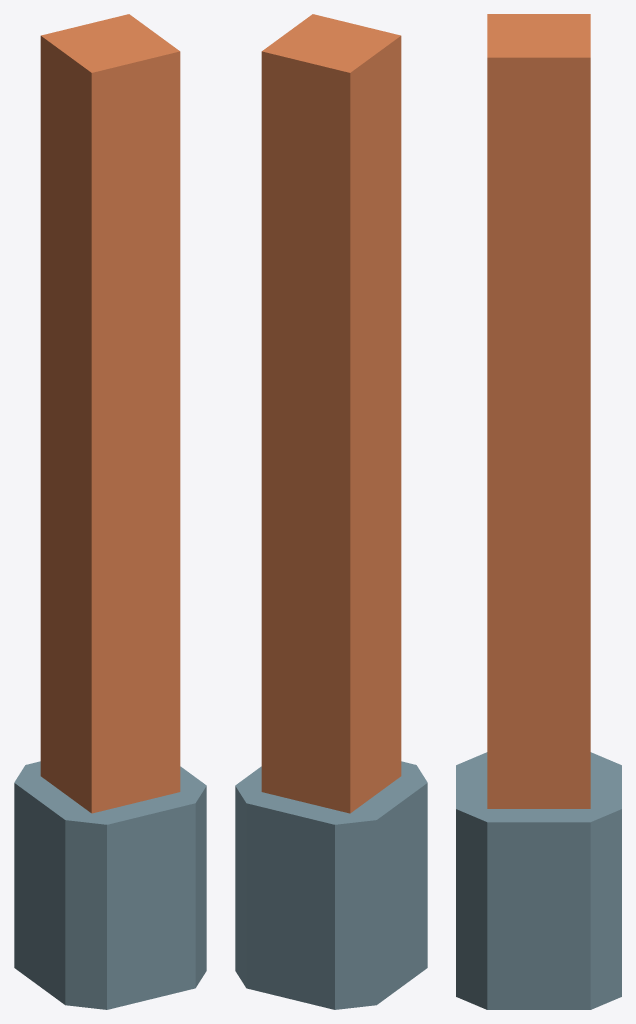
File: pillarWood.fbx
3 views of the same model, side by side, from view 1: azimuth 30°, elevation 25°; view 2: azimuth 150°, elevation 25°; view 3: azimuth 270°, elevation 25° (orthographic).
Visible parts, largest first — view 1: pillarWood; view 2: pillarWood; view 3: pillarWood.
Boxes of the visible parts, <box> form: pillarWood: <box>14,14,206,1009</box>; pillarWood: <box>235,14,427,1009</box>; pillarWood: <box>456,14,621,1009</box>.
Bounding box in the file's own units: 1.6 × 10 × 1.6.
